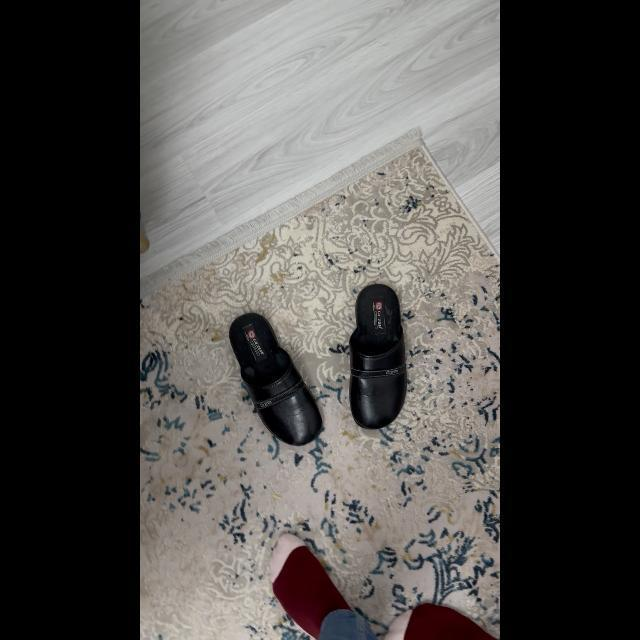slipper: (230, 308, 328, 454), (346, 284, 419, 434)
